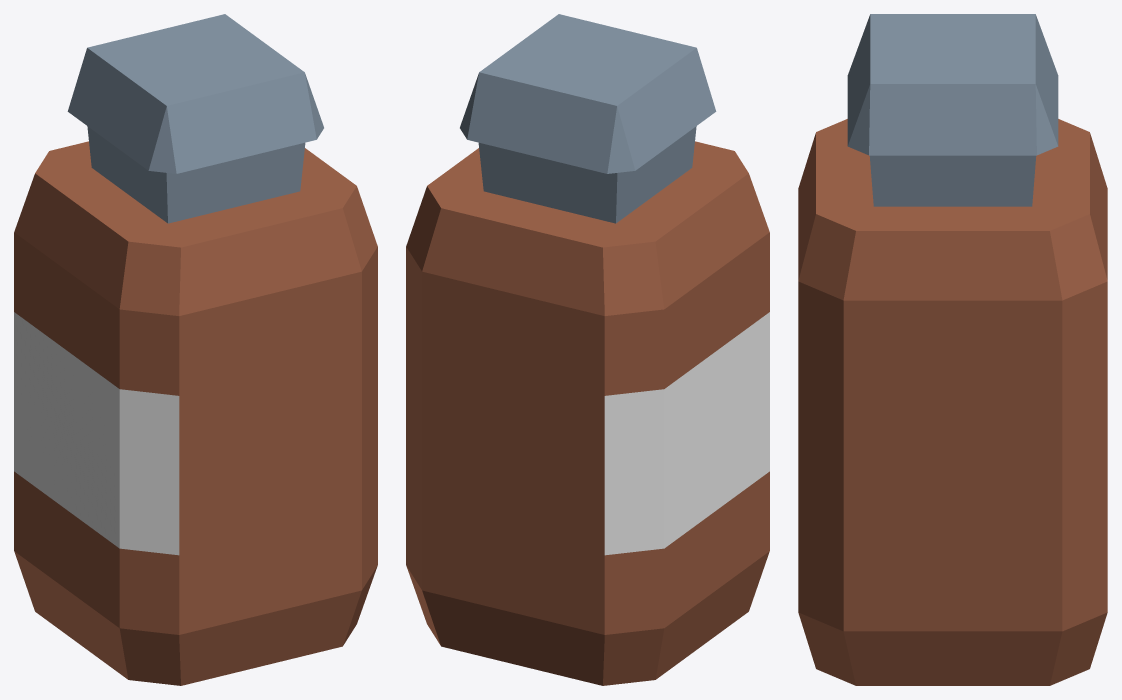
The model's file is shakerSalt.obj.
3 renders of one model, left to right at view 1: azimuth 30°, elevation 25°; view 2: azimuth 150°, elevation 25°; view 3: azimuth 270°, elevation 25°, orthographic. The views are drawn at different scales.
Visible parts, largest first — view 1: shakerSalt; view 2: shakerSalt; view 3: shakerSalt.
Boxes of the visible parts, <box> form: shakerSalt: <box>14,14,377,685</box>; shakerSalt: <box>406,14,769,685</box>; shakerSalt: <box>798,14,1107,685</box>.
Size of the model in its own units: 0.0949 by 0.196 by 0.0949.
